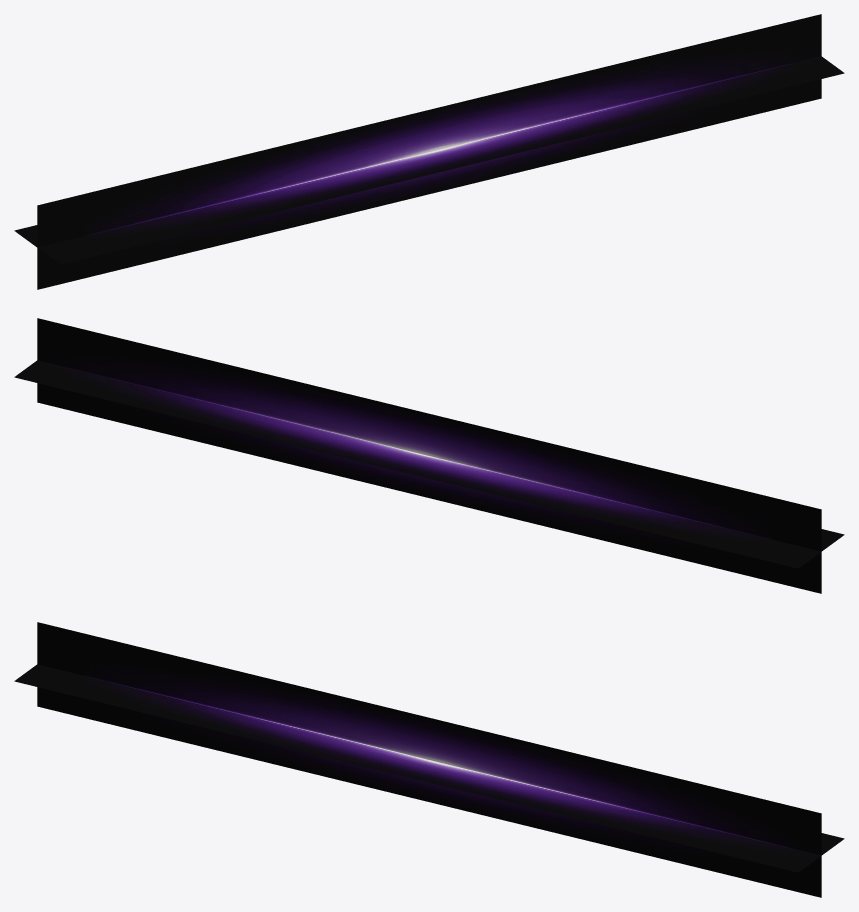
The picture shows the model from 3 angles, top to bottom: view 1: azimuth 30°, elevation 25°; view 2: azimuth 150°, elevation 25°; view 3: azimuth 330°, elevation 25°; orthographic projection.
Visible parts, largest first — view 1: GS_003; view 2: GS_003; view 3: GS_003.
Boxes of the visible parts, x1=… form: GS_003: x1=14, y1=14, x2=844, y2=289; GS_003: x1=14, y1=318, x2=844, y2=593; GS_003: x1=14, y1=622, x2=844, y2=897.
Size of the model in its own units: 3275 by 337 by 337.
